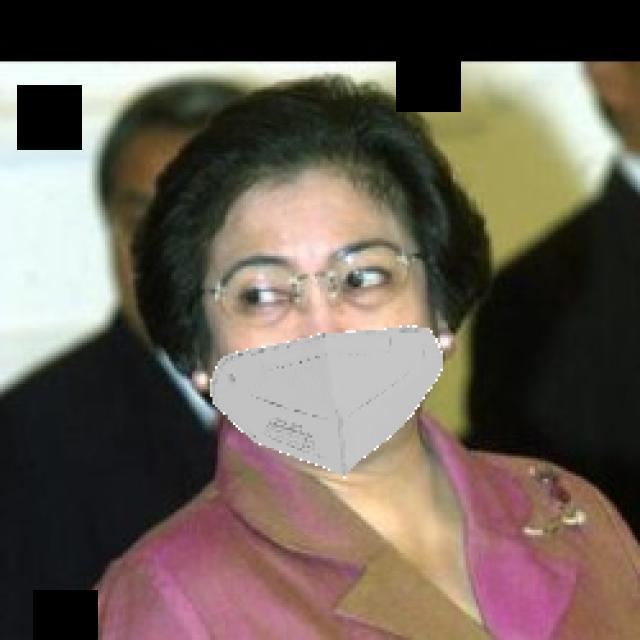kn95: (200, 143, 437, 472)
